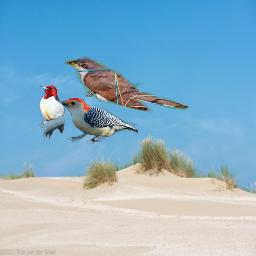Cuckoo: (64, 55, 191, 116)
Woodpecker: (54, 98, 138, 144), (38, 85, 66, 141)
